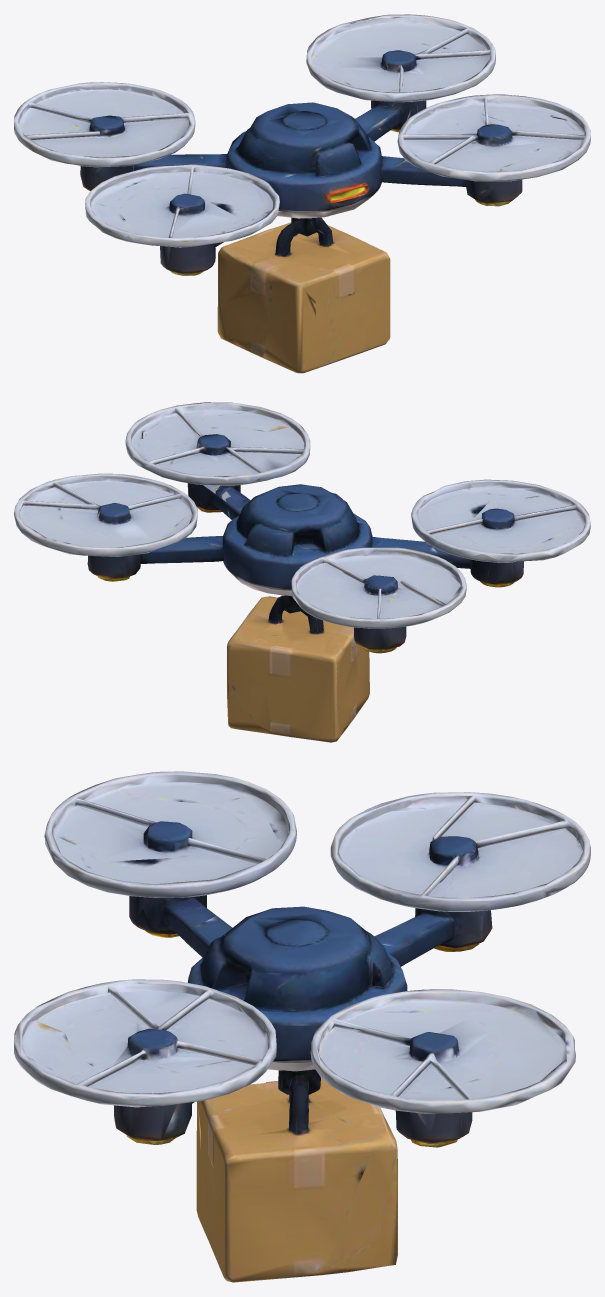
Rendered from drone.glb.
3 views of the same model, one above another, from view 1: azimuth 30°, elevation 25°; view 2: azimuth 150°, elevation 25°; view 3: azimuth 270°, elevation 25° (orthographic). The views are drawn at different scales.
Visible parts, largest first — view 1: model; view 2: model; view 3: model.
Boxes of the visible parts, bbox=[...] form: model: bbox=[14, 14, 590, 373]; model: bbox=[14, 402, 590, 742]; model: bbox=[14, 771, 590, 1282].
Bounding box in the file's own units: 1.03 × 0.4521 × 0.7577.
Materials: 1 (1 with a texture image).
